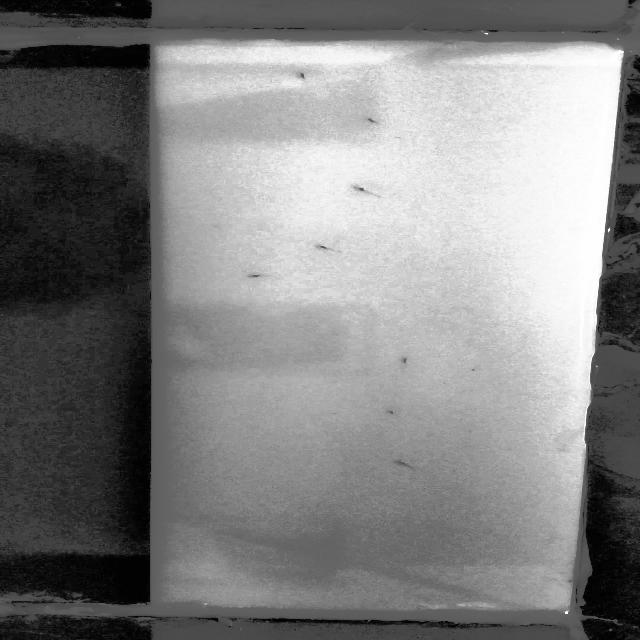shrimp: (348, 182, 379, 197), (392, 458, 419, 470), (312, 245, 344, 254), (242, 272, 272, 281), (297, 69, 315, 83), (399, 357, 417, 368), (382, 407, 400, 417), (364, 116, 380, 124)
